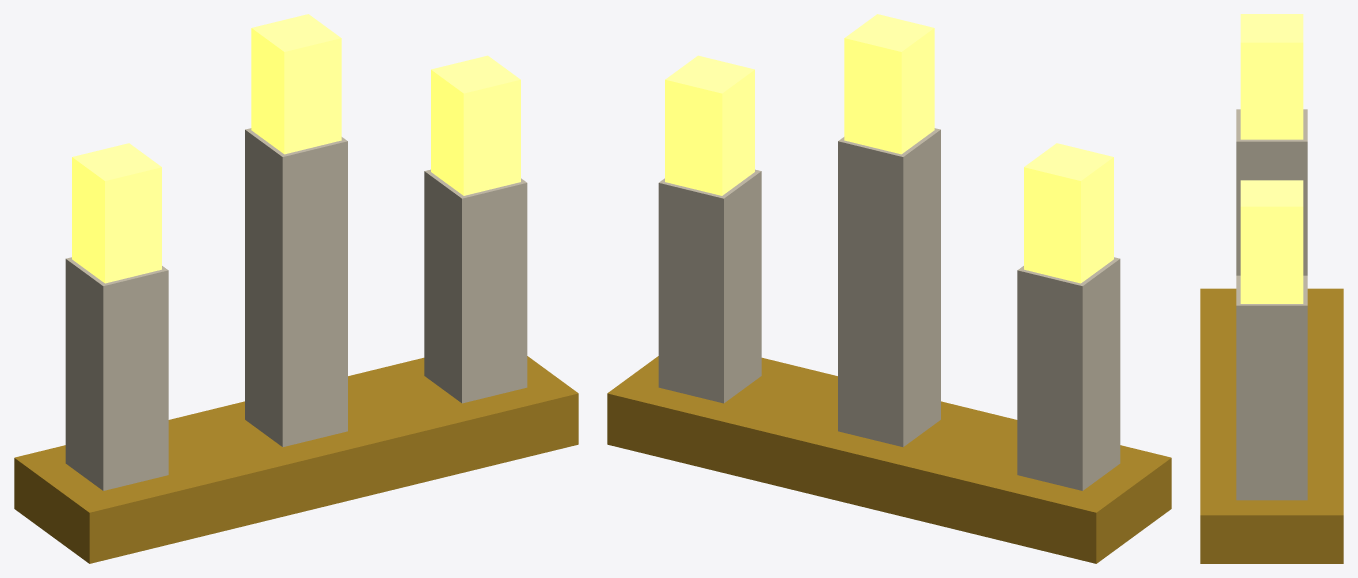
Rendered from ld-table-candles.glb.
3 views of the same model, side by side, from view 1: azimuth 30°, elevation 25°; view 2: azimuth 150°, elevation 25°; view 3: azimuth 270°, elevation 25° (orthographic). The views are drawn at different scales.
Visible parts, largest first — view 1: box-prop; view 2: box-prop; view 3: box-prop.
Part boxes in pixels (x1,y1,x2,y2): box-prop: (14, 14, 578, 563); box-prop: (607, 14, 1171, 563); box-prop: (1200, 14, 1343, 563).
Size of the model in its own units: 0.6 by 0.52 by 0.16.
